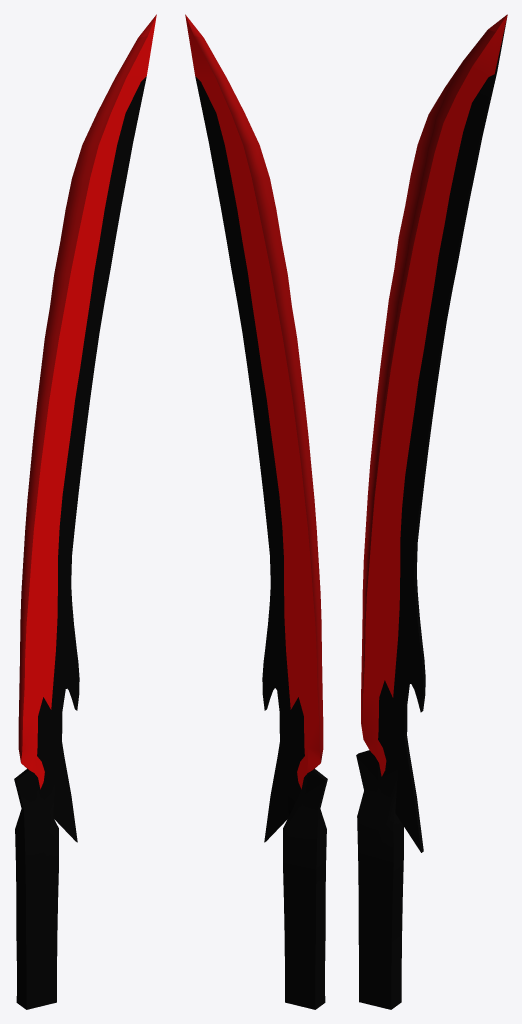
Rendered from Sword.FBX.
3 views of the same model, side by side, from view 1: azimuth 30°, elevation 25°; view 2: azimuth 150°, elevation 25°; view 3: azimuth 330°, elevation 25° (orthographic). The views are drawn at different scales.
Visible parts, largest first — view 1: Sword; view 2: Sword; view 3: Sword.
Boxes of the visible parts, x1,y1,x2,y2 form: Sword: (14, 14, 156, 1009); Sword: (185, 14, 327, 1009); Sword: (356, 14, 507, 1009).
Bounding box in the file's own units: 175 × 20.89 × 1136.
1 material, 1 textured.
